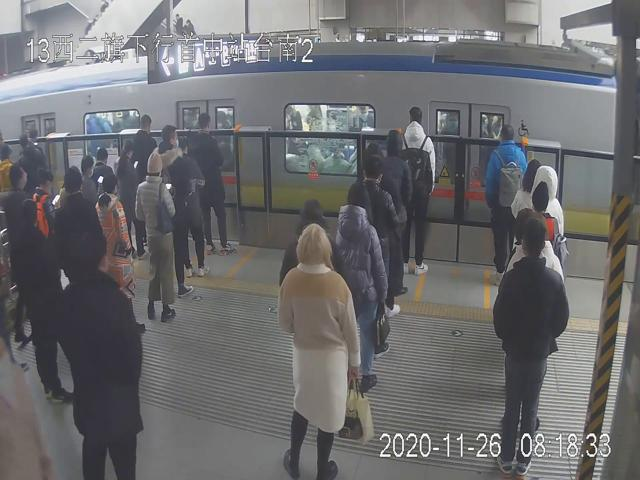person: (277, 223, 361, 480), (494, 214, 570, 473), (15, 200, 72, 403), (336, 182, 388, 392), (96, 174, 148, 333), (135, 152, 178, 321), (486, 125, 528, 287), (396, 105, 436, 275), (191, 113, 235, 259), (157, 125, 194, 296)
